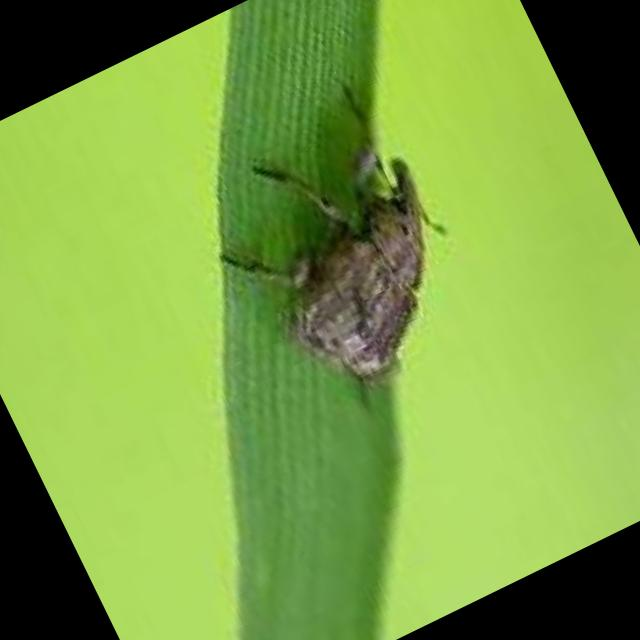rice-bug: (186, 88, 492, 412)
